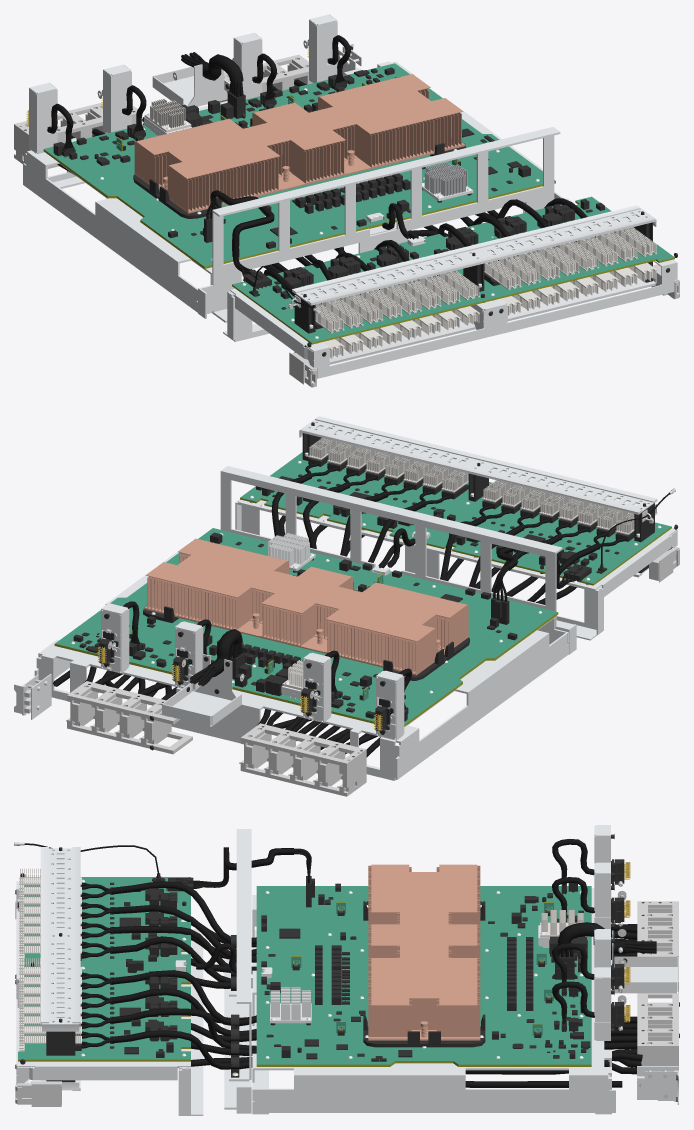
The model's file is sidecar-int-1.glb.
3 renders of one model, top to bottom at view 1: azimuth 30°, elevation 25°; view 2: azimuth 150°, elevation 25°; view 3: azimuth 270°, elevation 25°, orthographic. The views are drawn at different scales.
Visible parts, largest first — view 1: Plane.056, Plane.054, Plane.051, Plane.059, Plane.057, Plane.058, GN Instance, NurbsPath.009, Plane.065, Plane.064, Plane.060, Plane.061 (+32 smaller); view 2: Plane.056, Plane.051, Plane.057, Plane.054, GN Instance, Plane.059, Plane.055, Plane.064, Plane.058, Cube.26392, Cube.26393, NurbsPath.009 (+25 smaller); view 3: Plane.056, Plane.051, GN Instance, Plane.057, Plane.059, Plane.054, Plane.058, NurbsPath.009, Plane.064, Plane.055, Cube.26393, Cube.26392 (+19 smaller).
Boxes of the visible parts, left/top/right/bottom form: Plane.056: left=43, top=63, right=555, bottom=268; Plane.054: left=198, top=127, right=574, bottom=322; Plane.051: left=23, top=61, right=564, bottom=313; Plane.059: left=292, top=205, right=656, bottom=305; Plane.057: left=232, top=196, right=674, bottom=344; Plane.058: left=230, top=259, right=677, bottom=378; GN Instance: left=57, top=79, right=615, bottom=304; NurbsPath.009: left=47, top=35, right=411, bottom=238; Plane.065: left=292, top=277, right=656, bottom=368; Plane.064: left=152, top=64, right=229, bottom=106; Plane.060: left=29, top=82, right=57, bottom=153; Plane.061: left=103, top=64, right=131, bottom=133; Plane.056: left=54, top=528, right=558, bottom=726; Plane.051: left=34, top=545, right=568, bottom=780; Plane.057: left=240, top=452, right=671, bottom=585; Plane.054: left=220, top=466, right=576, bottom=654; GN Instance: left=53, top=460, right=626, bottom=757; Plane.059: left=299, top=416, right=657, bottom=514; Plane.055: left=235, top=499, right=603, bottom=640; Plane.064: left=162, top=654, right=241, bottom=726; Plane.058: left=238, top=500, right=677, bottom=596; Cube.26392: left=240, top=723, right=366, bottom=766; Cube.26393: left=67, top=681, right=180, bottom=724; NurbsPath.009: left=114, top=528, right=415, bottom=714; Plane.056: left=256, top=886, right=591, bottom=1066; Plane.051: left=252, top=888, right=615, bottom=1114; GN Instance: left=81, top=881, right=642, bottom=1087; Plane.057: left=18, top=877, right=190, bottom=1061; Plane.059: left=40, top=847, right=80, bottom=1031; Plane.054: left=224, top=829, right=251, bottom=1113; Plane.058: left=16, top=881, right=190, bottom=1084; NurbsPath.009: left=196, top=839, right=594, bottom=1023; Plane.064: left=612, top=930, right=678, bottom=993; Plane.055: left=178, top=929, right=203, bottom=1115; Cube.26393: left=637, top=991, right=678, bottom=1049; Cube.26392: left=637, top=901, right=678, bottom=959.
Size of the model in its own units: 0.5338 by 0.1428 by 0.801.
